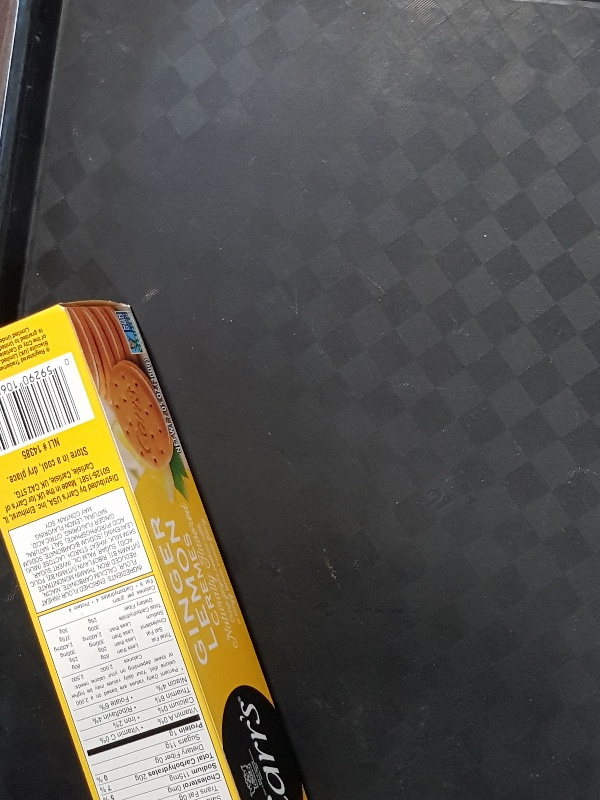Carr's Ginger Lemon Cremes: (1, 297, 311, 800)
